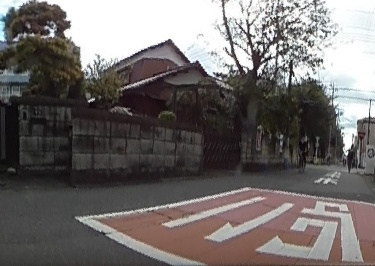person: (299, 133, 309, 165), (346, 145, 354, 172)
